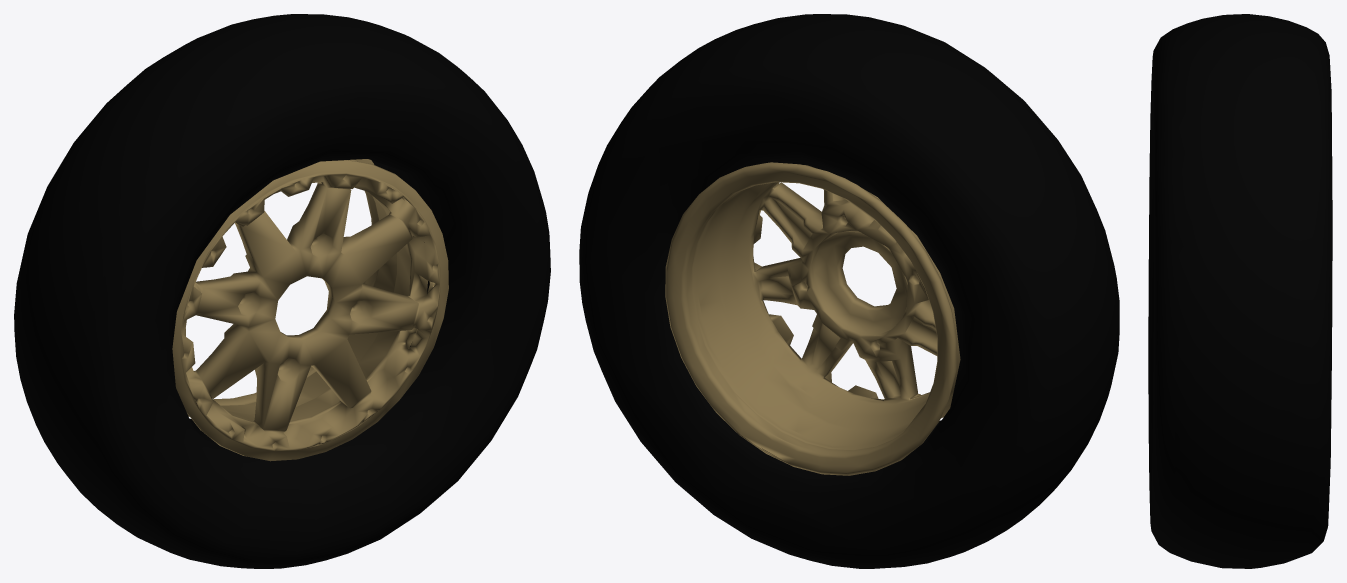
Rendered from mrzr_single_wheel.obj.
3 renders of one model, left to right at view 1: azimuth 30°, elevation 25°; view 2: azimuth 150°, elevation 25°; view 3: azimuth 270°, elevation 25°, orthographic. The views are drawn at different scales.
Visible parts, largest first — view 1: Wheel; view 2: Wheel; view 3: Wheel.
Part boxes in pixels (box(x1,y1,x2,y2)): Wheel: box(14, 14, 550, 568); Wheel: box(579, 14, 1119, 568); Wheel: box(1148, 14, 1332, 568).
Size of the model in its own units: 0.6634 by 0.6634 by 0.2204.
